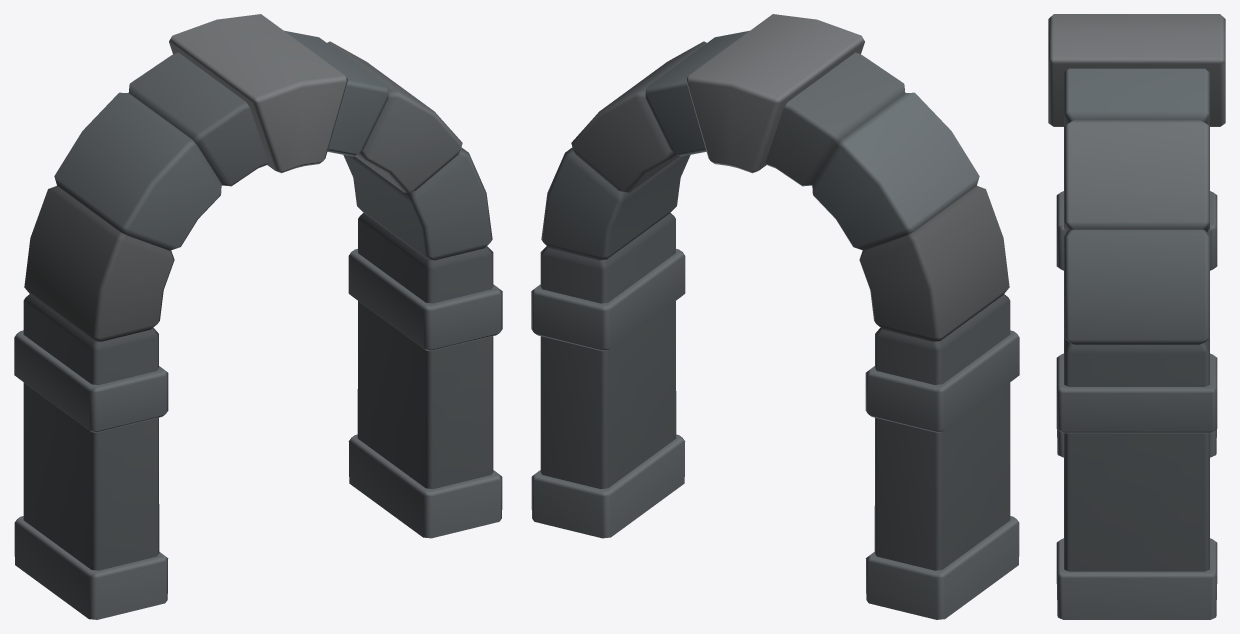
The model's file is arch_001.glb.
The picture shows the model from 3 angles, left to right: view 1: azimuth 30°, elevation 25°; view 2: azimuth 150°, elevation 25°; view 3: azimuth 270°, elevation 25°; orthographic projection.
Visible parts, largest first — view 1: arch_001; view 2: arch_001; view 3: arch_001.
Part boxes in pixels (x1,y1,x2,y2): arch_001: (14, 14, 502, 619); arch_001: (531, 14, 1019, 619); arch_001: (1048, 14, 1225, 619).
Bounding box in the file's own units: 4.04 × 4.59 × 1.51.
1 material, 1 textured.
